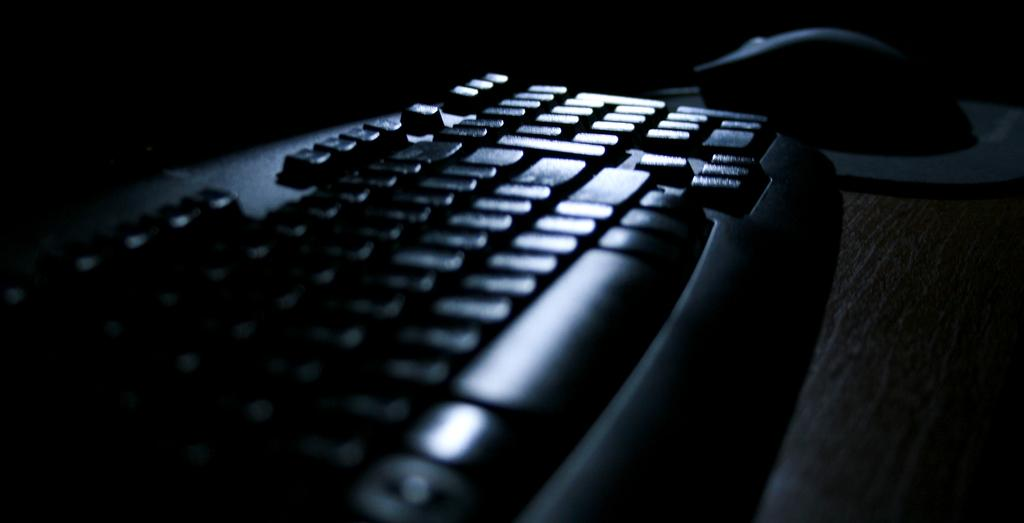Computer-keyboard: (0, 67, 847, 522)
